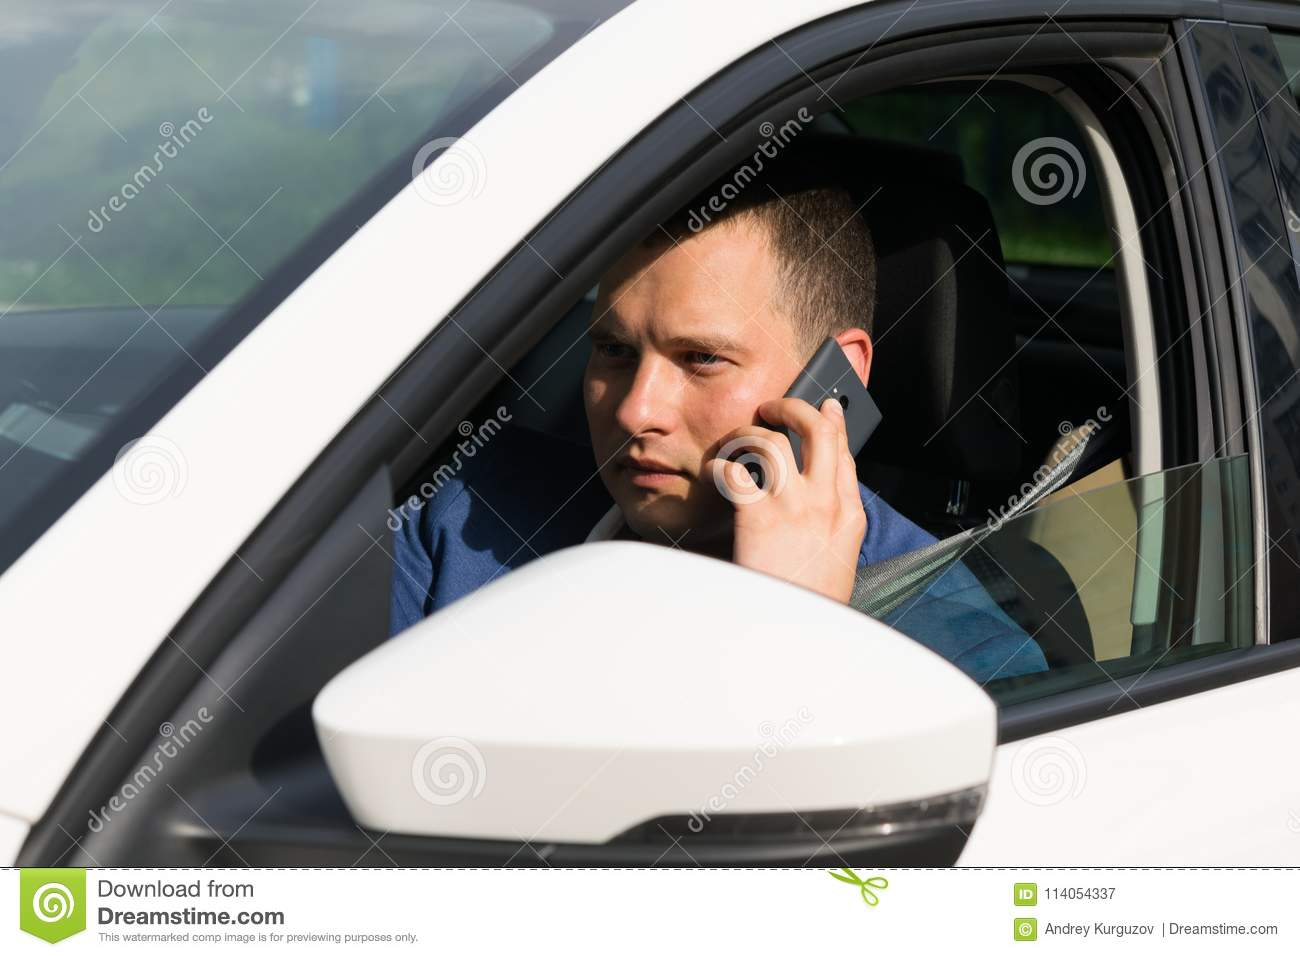phone: (717, 337, 888, 526)
talk: (594, 304, 886, 604)
